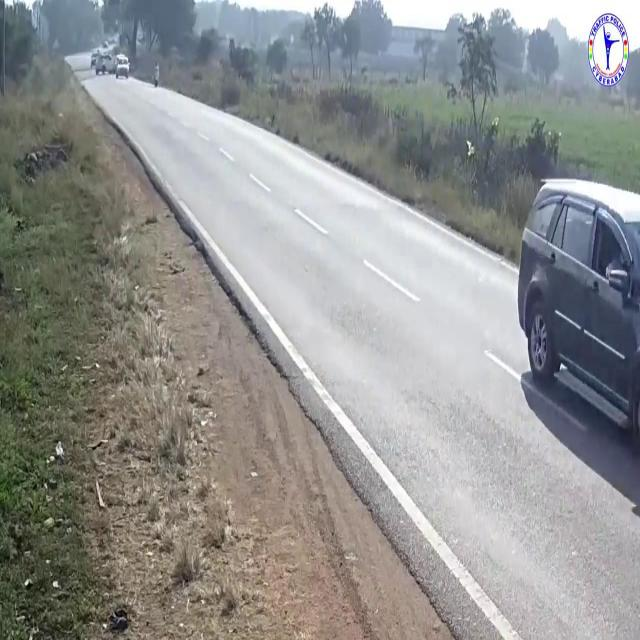accident: (91, 44, 132, 84)
